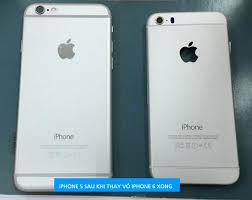iphone: (10, 1, 112, 200)
iphone5: (12, 1, 113, 198)
